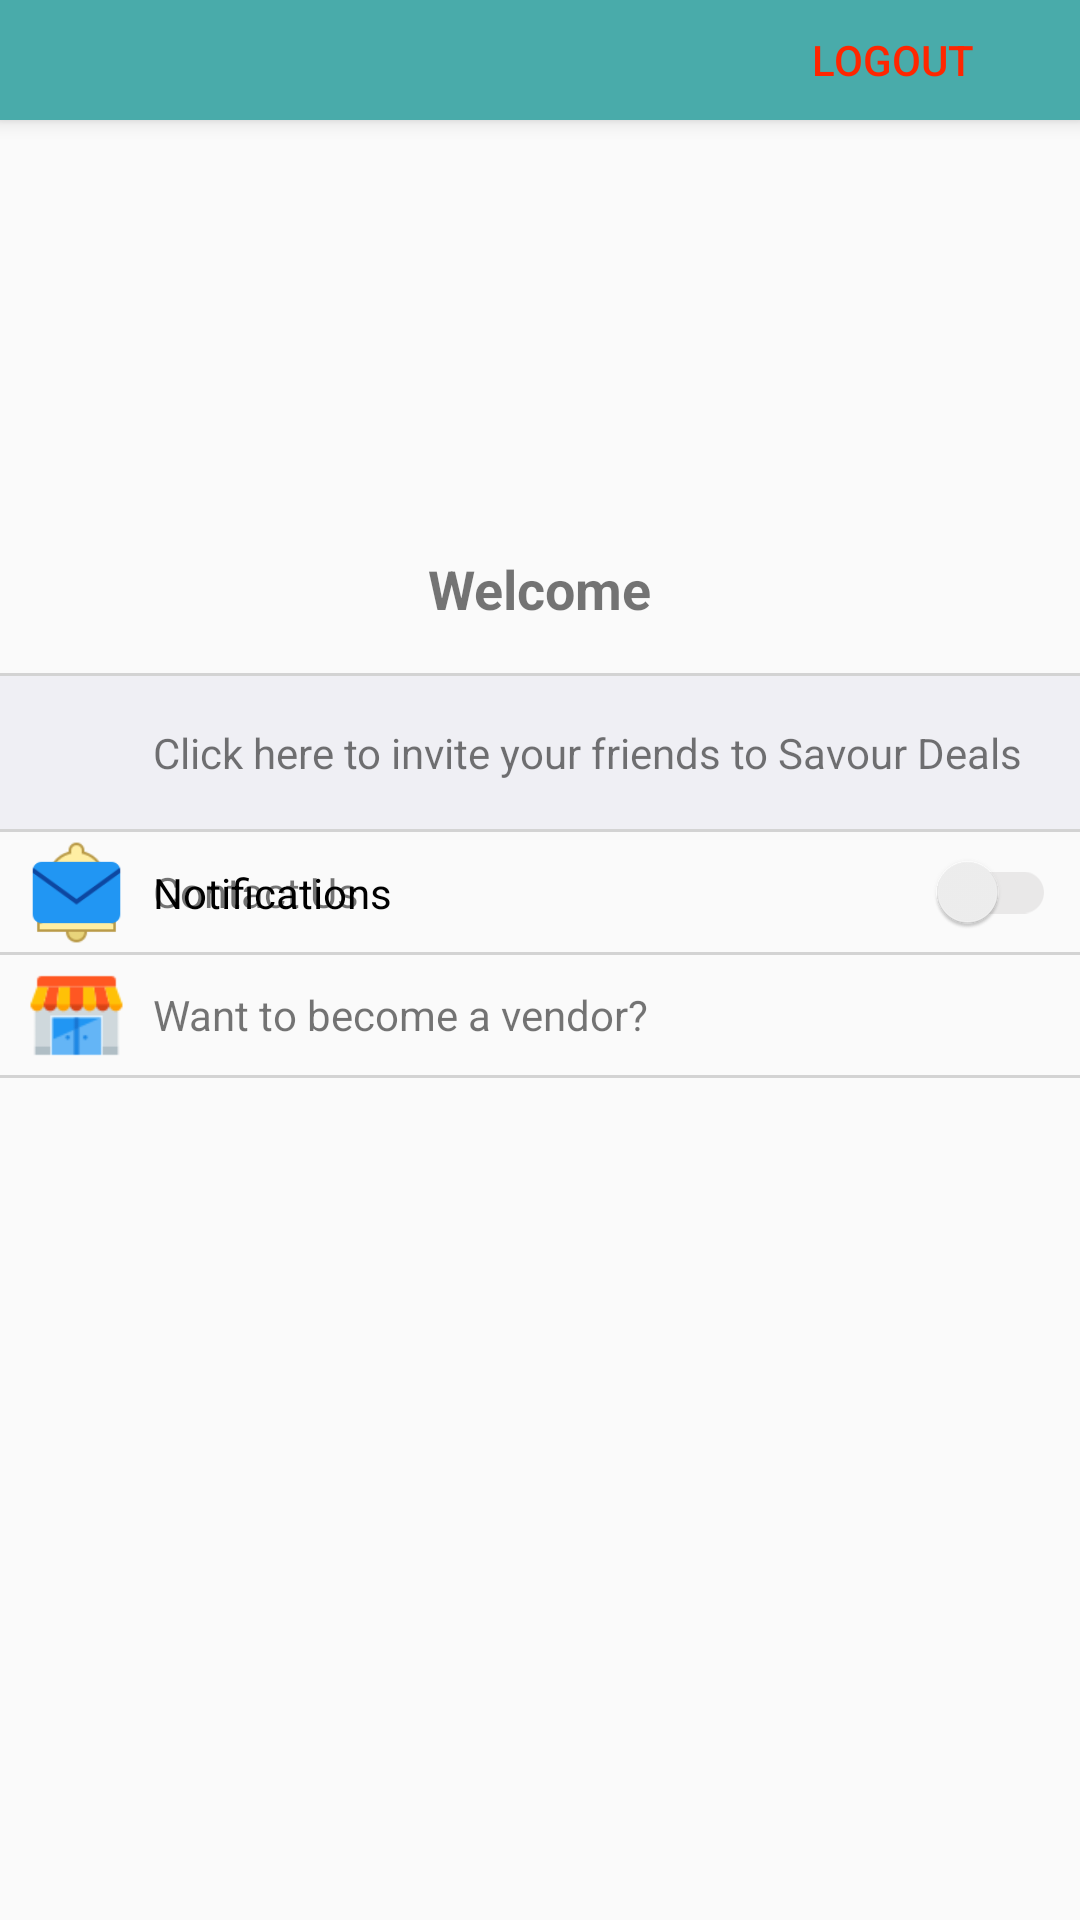

Icons on this 1080 x 1920 Android screen, each with its box as (x1, y1, x2, y2):
business: (30, 975, 123, 1056)
